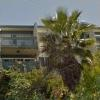Palm tree: (36, 5, 91, 88)
